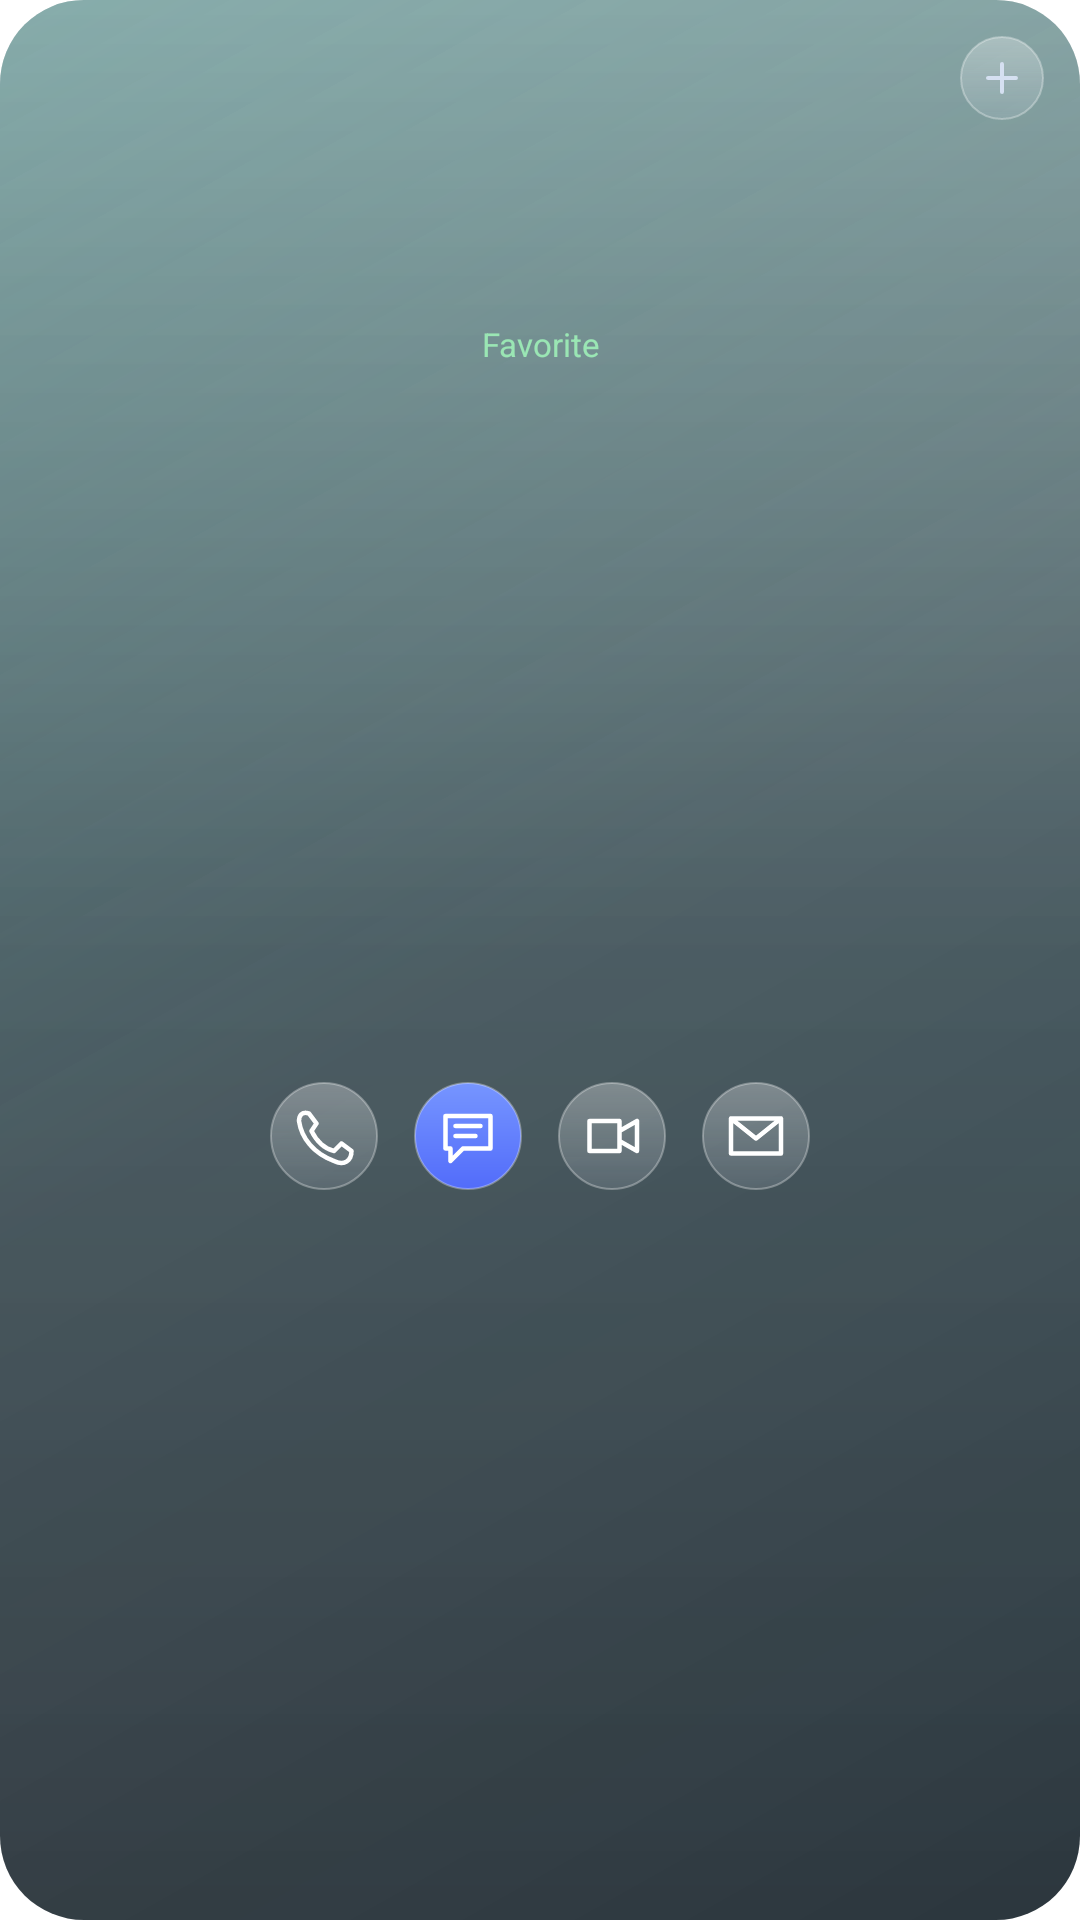

Named icons in this screenshot (1080x1920) and their bounding boxes, (x1, y1, x2, y2):
Call: (270, 1082, 378, 1190)
Choose contact: (960, 36, 1044, 120)
Email: (702, 1082, 810, 1190)
Message: (414, 1082, 522, 1190)
Video: (558, 1082, 666, 1190)
